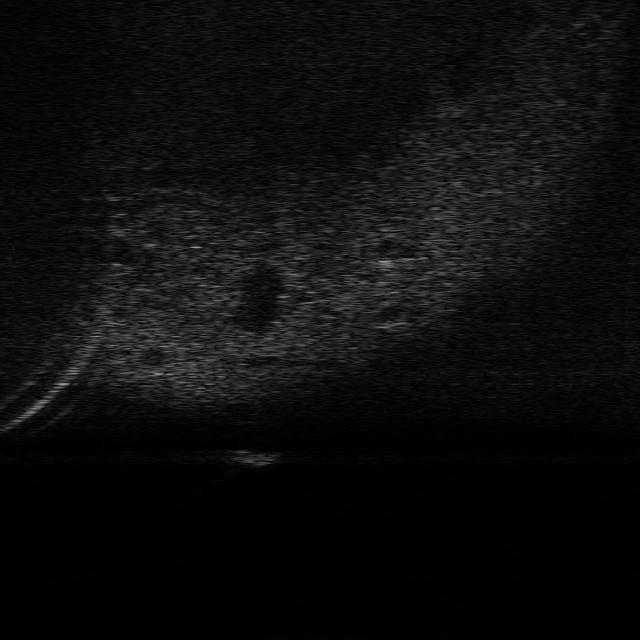cube: (222, 444, 282, 466)
